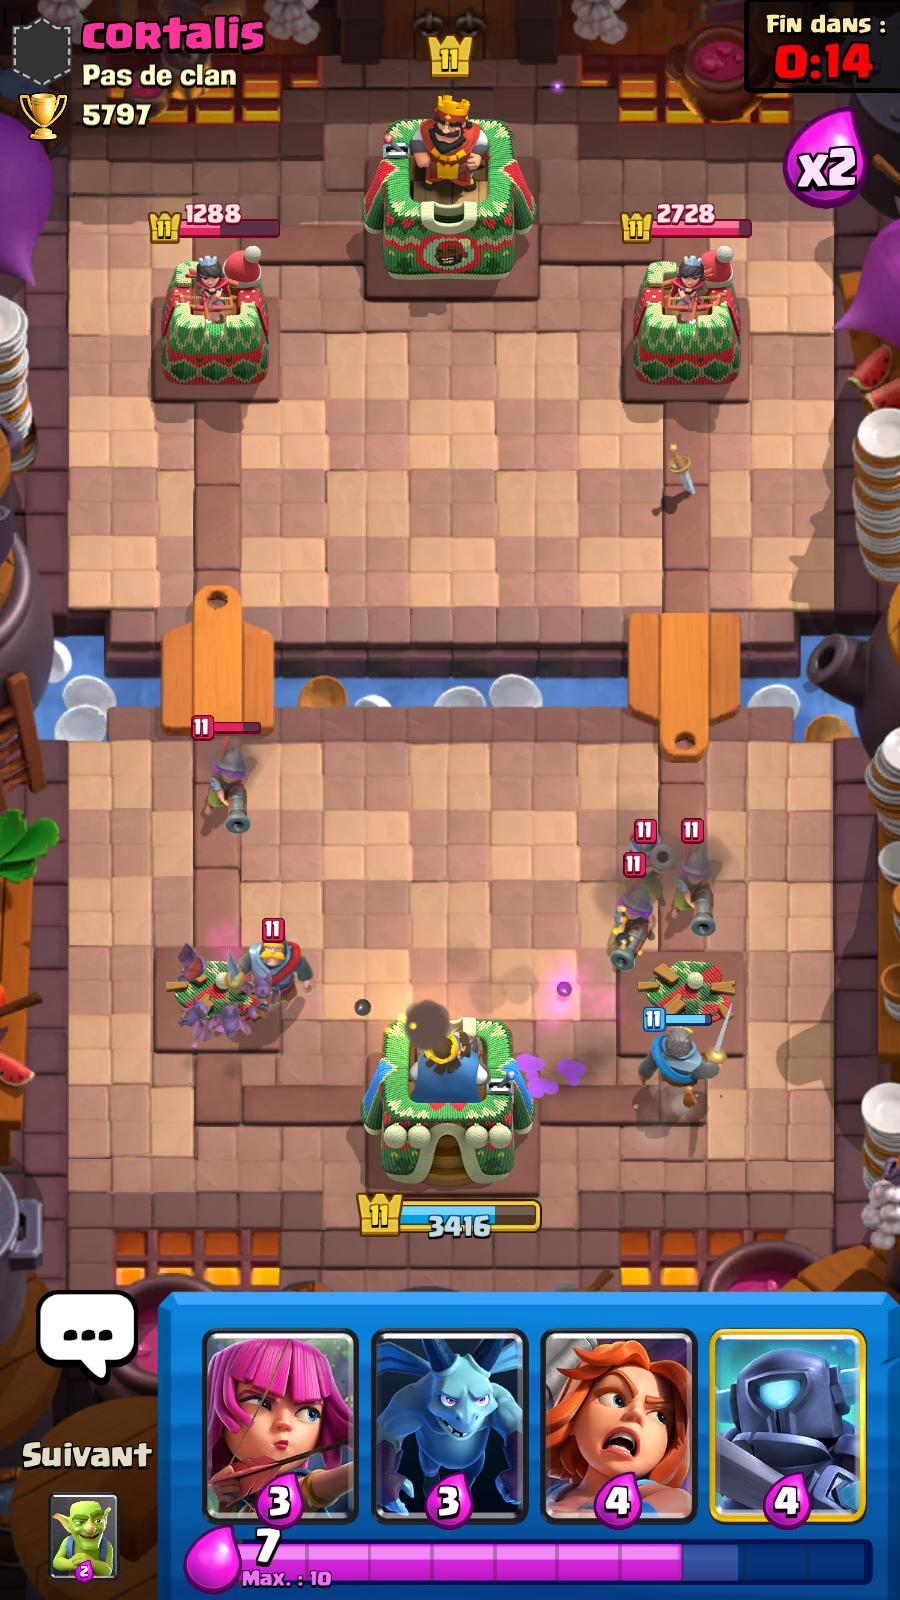bat: (230, 965, 292, 1018), (173, 988, 216, 1044), (209, 999, 257, 1043)
chevalier: (632, 998, 743, 1107), (240, 907, 314, 1013)
mousquetaire: (188, 719, 276, 844), (665, 823, 731, 951), (600, 868, 664, 973), (623, 812, 675, 903)
